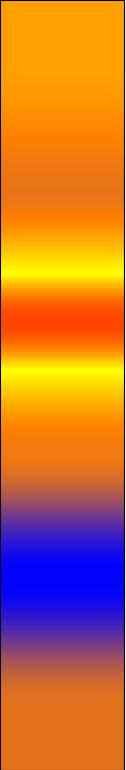Thermal Runaway: (6, 223, 118, 466), (10, 10, 115, 165)
critical: (9, 639, 116, 765), (13, 476, 109, 513), (14, 175, 111, 201)
safe: (10, 520, 121, 632)
